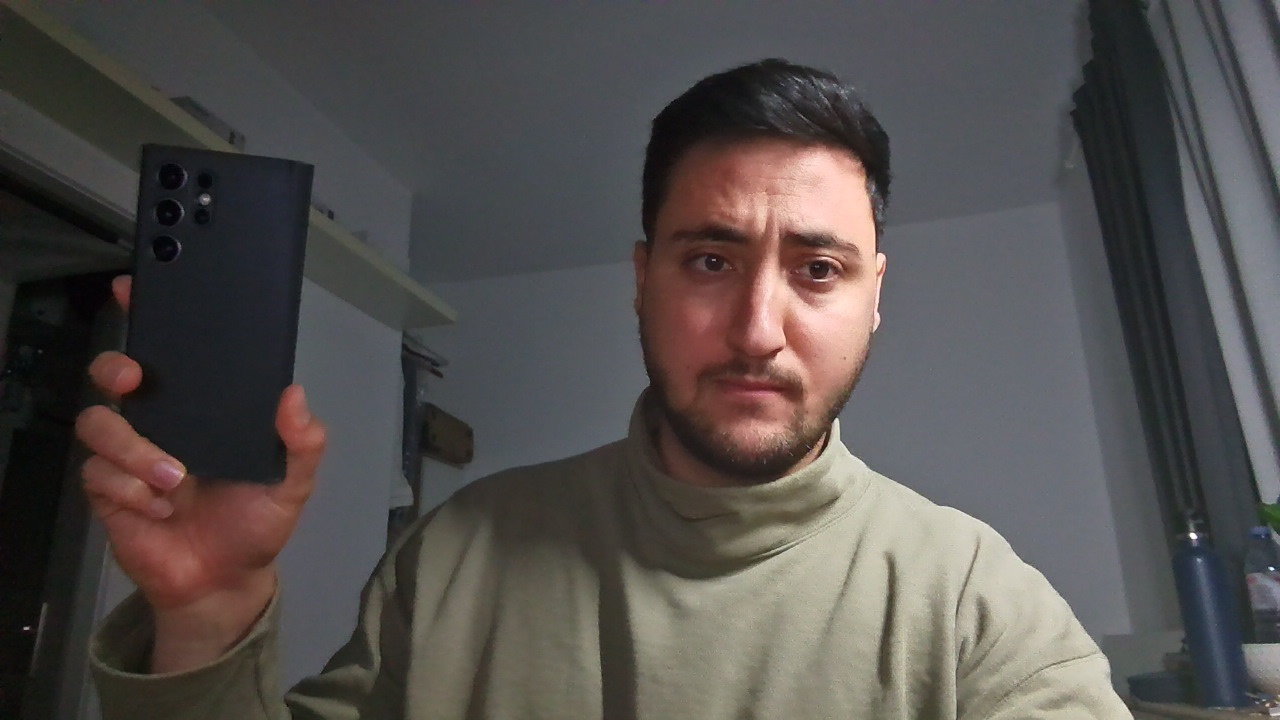Handy: (105, 129, 331, 495)
Wasserflasche: (1139, 509, 1256, 716)
me: (596, 36, 894, 501)
